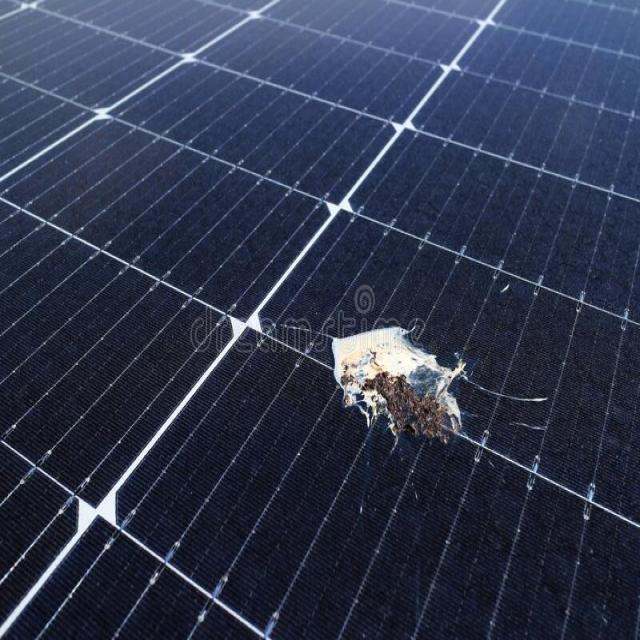faulty: (320, 297, 547, 497)
